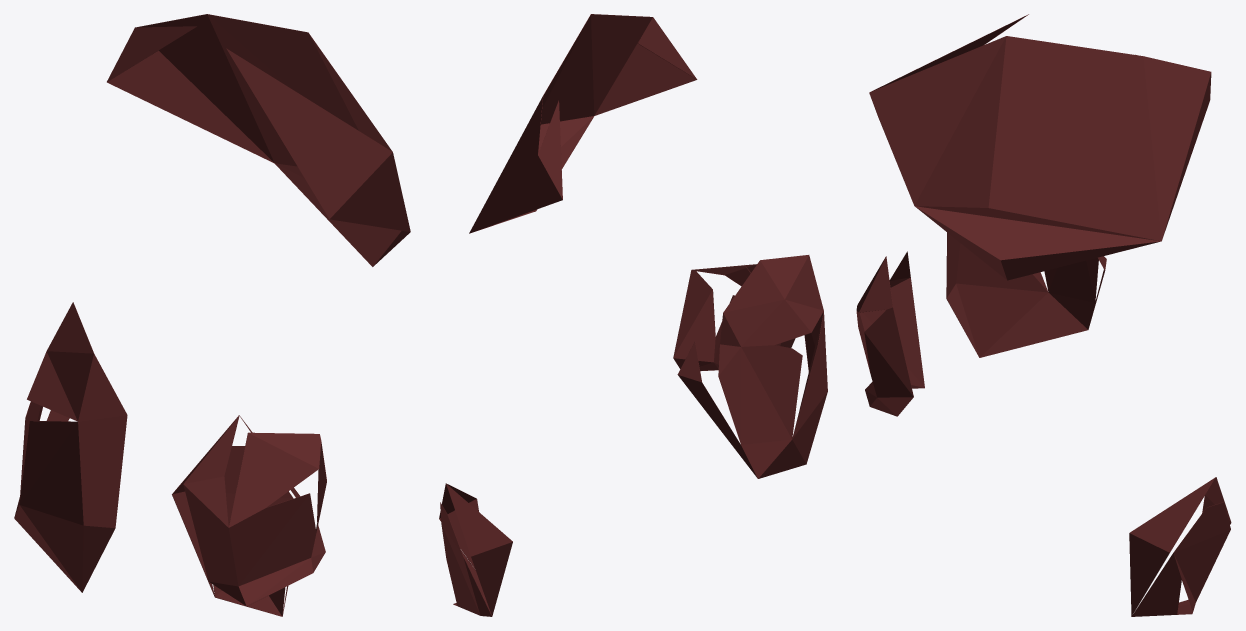
Rendered from Stone_Yellow_A_02_Light_02.FBX.
3 renders of one model, left to right at view 1: azimuth 30°, elevation 25°; view 2: azimuth 150°, elevation 25°; view 3: azimuth 270°, elevation 25°, orthographic. The views are drawn at different scales.
Visible parts, largest first — view 1: Stone_Yellow_A_02_Light_02; view 2: Stone_Yellow_A_02_Light_02; view 3: Stone_Yellow_A_02_Light_02.
Part boxes in pixels (box(x1,y1,x2,y2)): Stone_Yellow_A_02_Light_02: box(14, 14, 410, 616); Stone_Yellow_A_02_Light_02: box(439, 14, 827, 616); Stone_Yellow_A_02_Light_02: box(856, 14, 1231, 616).
Bounding box in the file's own units: 2.35 × 3.95 × 2.39.
